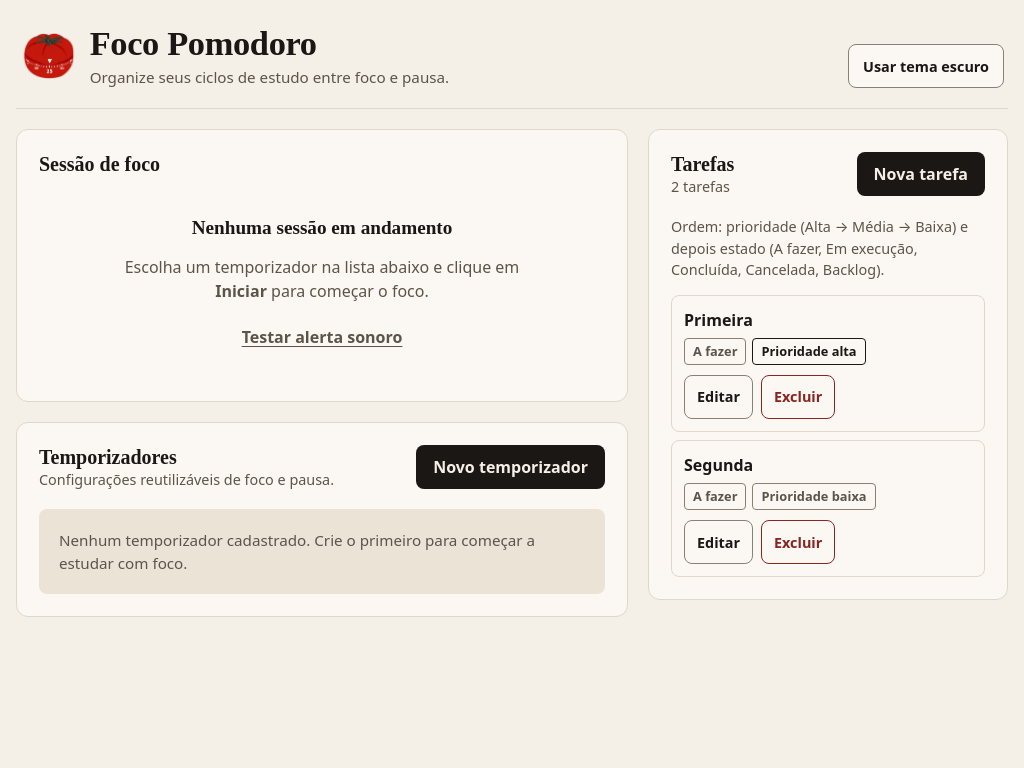
Test case: painel de tarefas (RF-15 a RF-19, RN-10, RN-12) › editar tarefa altera estado e reordena o painel
The image size is (1024, 768).
Click the button with aria-label "Editar tarefa: Segunda" at [718, 542], box [684, 520, 753, 564]
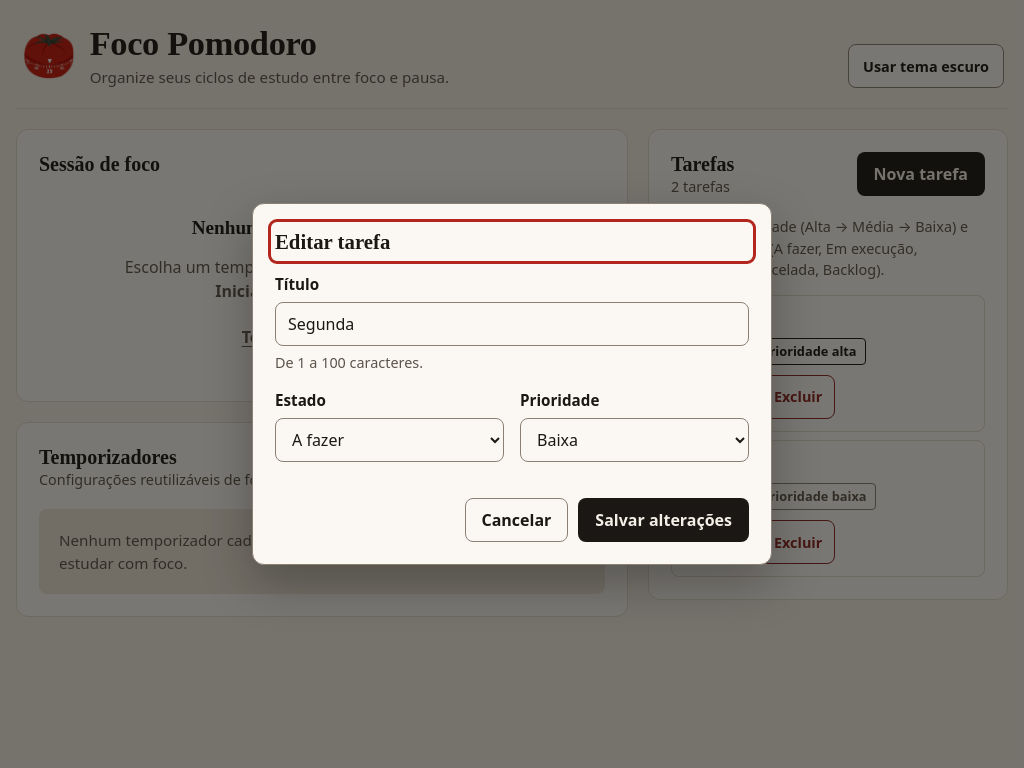
Select "Alta" in the dropdown labelled "Prioridade" at [634, 440], box [520, 418, 749, 462]
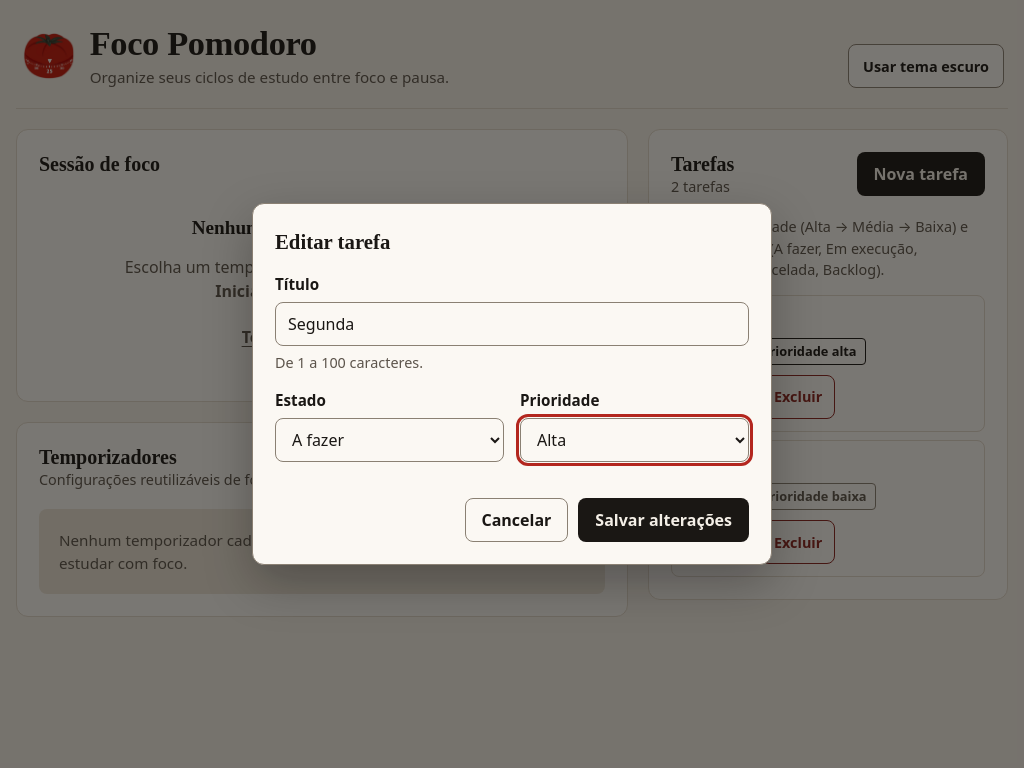
Select "Em execução" in the dropdown labelled "Estado" at [390, 440], box [275, 418, 504, 462]
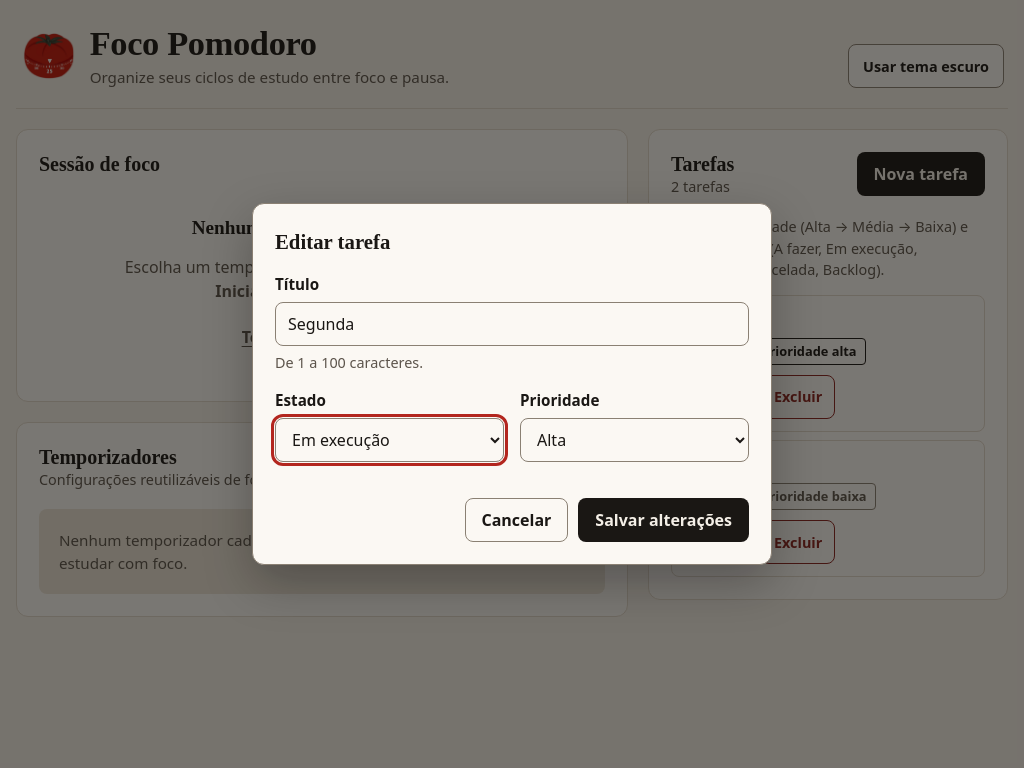
Click the button "Salvar alterações" at [664, 520], box [578, 498, 749, 542]
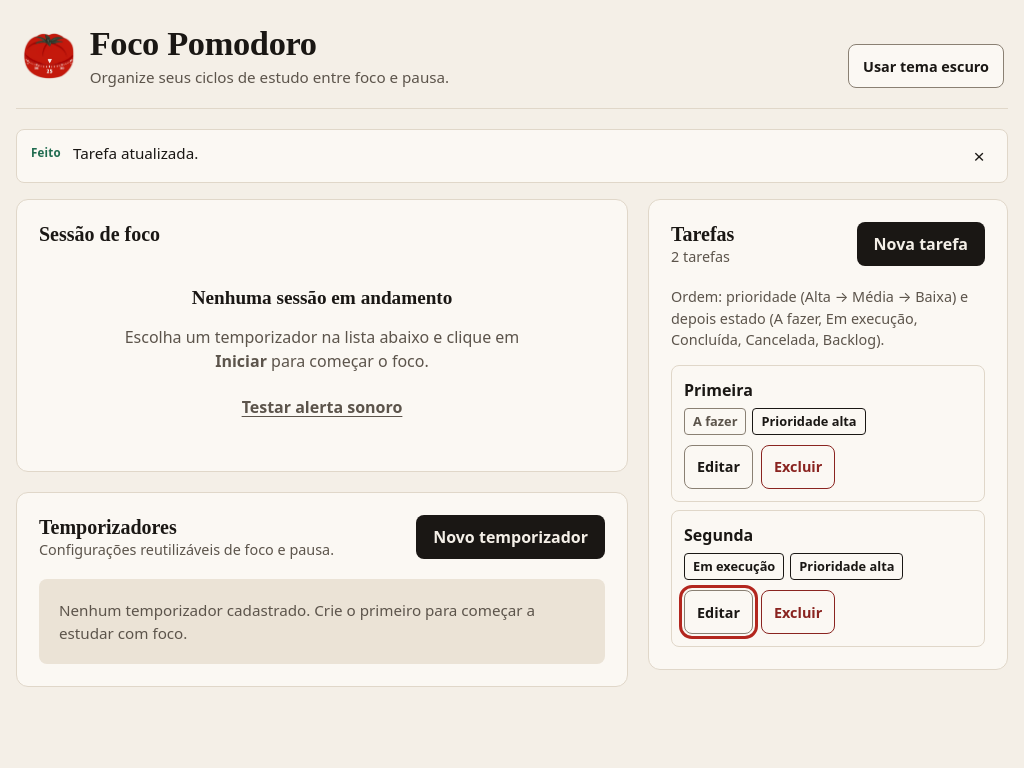
expect the text "Em execução" is shown: met, box [684, 553, 784, 580]
expect the text "Prioridade alta" below "Segunda" is shown: met, box [790, 553, 903, 580]
